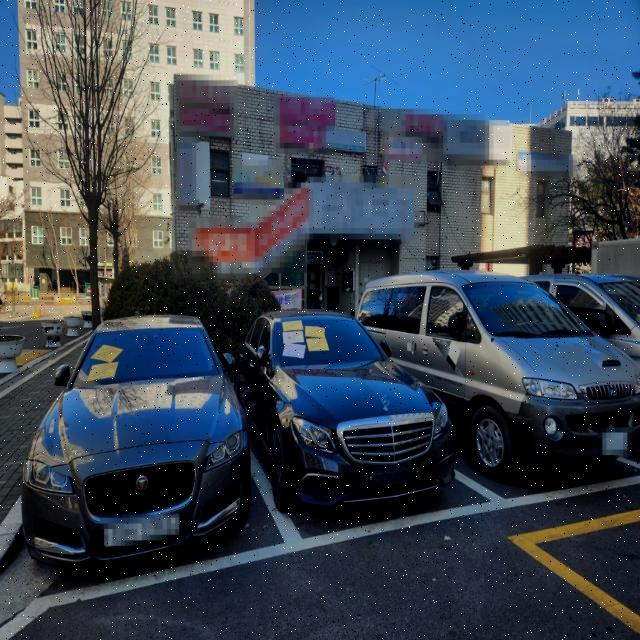occupied: (24, 312, 264, 582), (354, 268, 640, 488), (223, 302, 474, 533)
